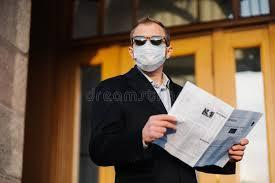mask: (129, 39, 169, 74)
sunglasses: (132, 33, 167, 47)
